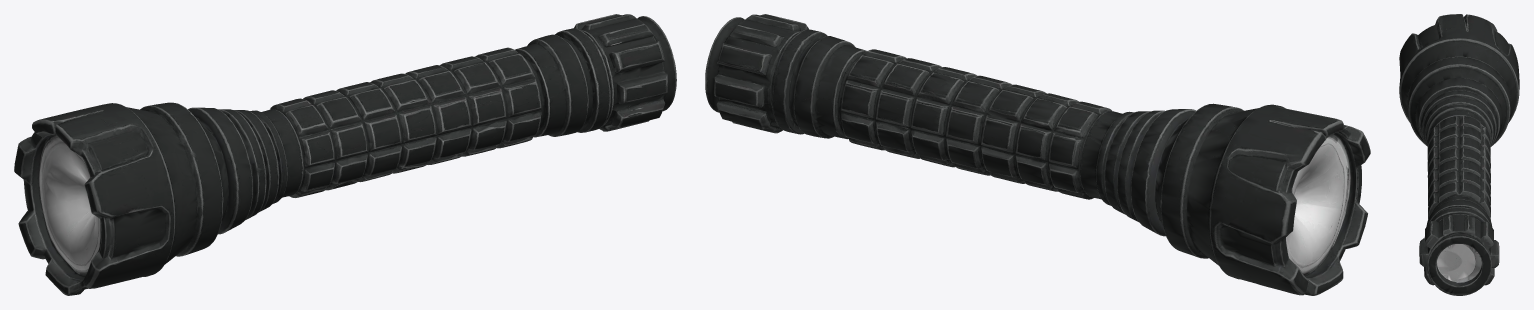
Rendered from flashlight.glb.
3 renders of one model, left to right at view 1: azimuth 30°, elevation 25°; view 2: azimuth 150°, elevation 25°; view 3: azimuth 270°, elevation 25°, orthographic. The views are drawn at different scales.
Bounding box in the file's own units: 1.89 × 0.491 × 0.4871.
Materials: 1 (1 with a texture image).
